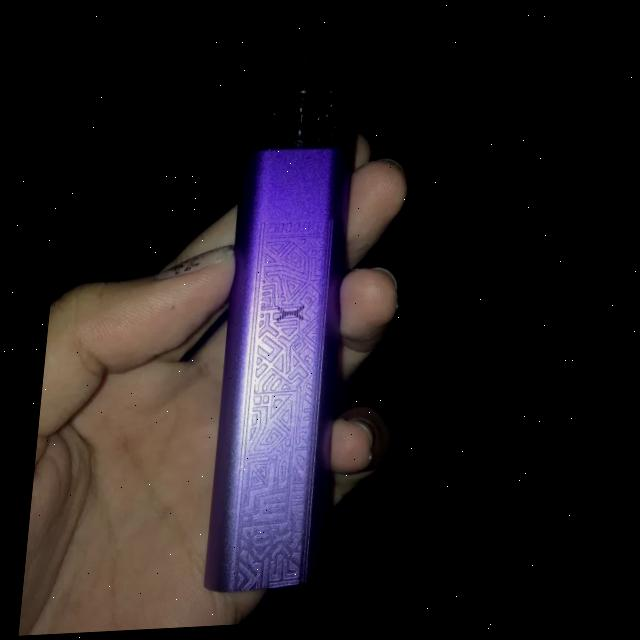vape: (213, 79, 376, 596)
